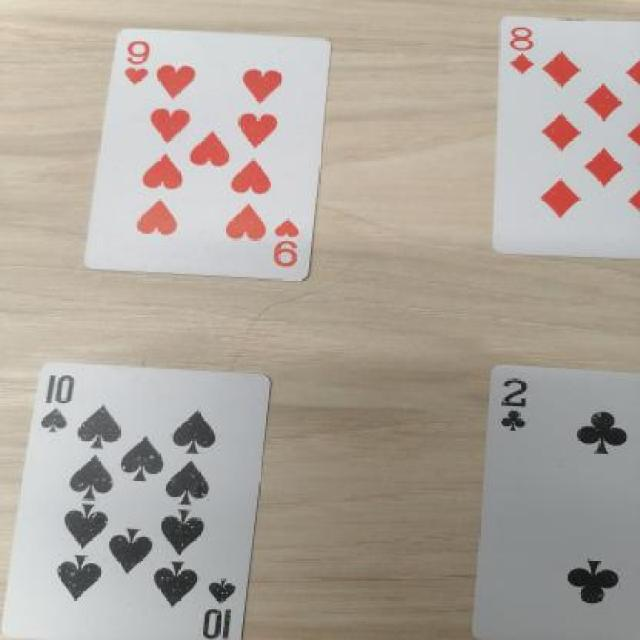10S: (26, 371, 86, 443)
2C: (494, 375, 534, 433)
8D: (510, 21, 550, 82)
9H: (100, 33, 163, 98)
